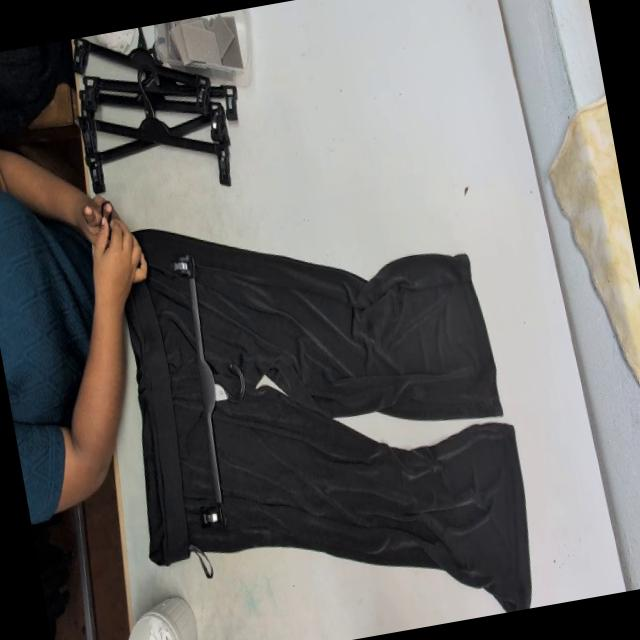new-garment: (125, 229, 530, 611)
